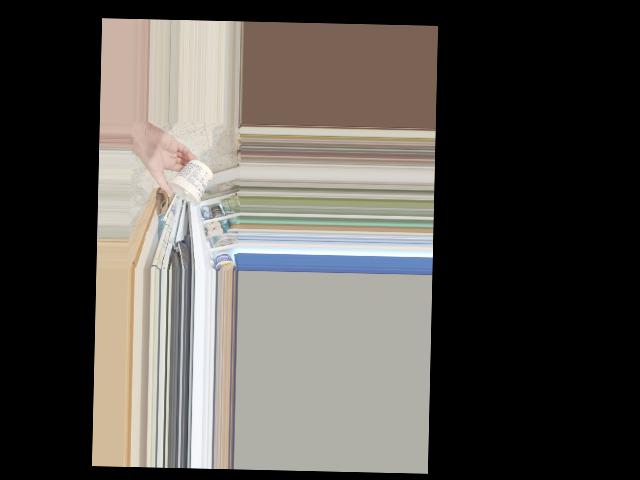cotage: (167, 157, 207, 208)
